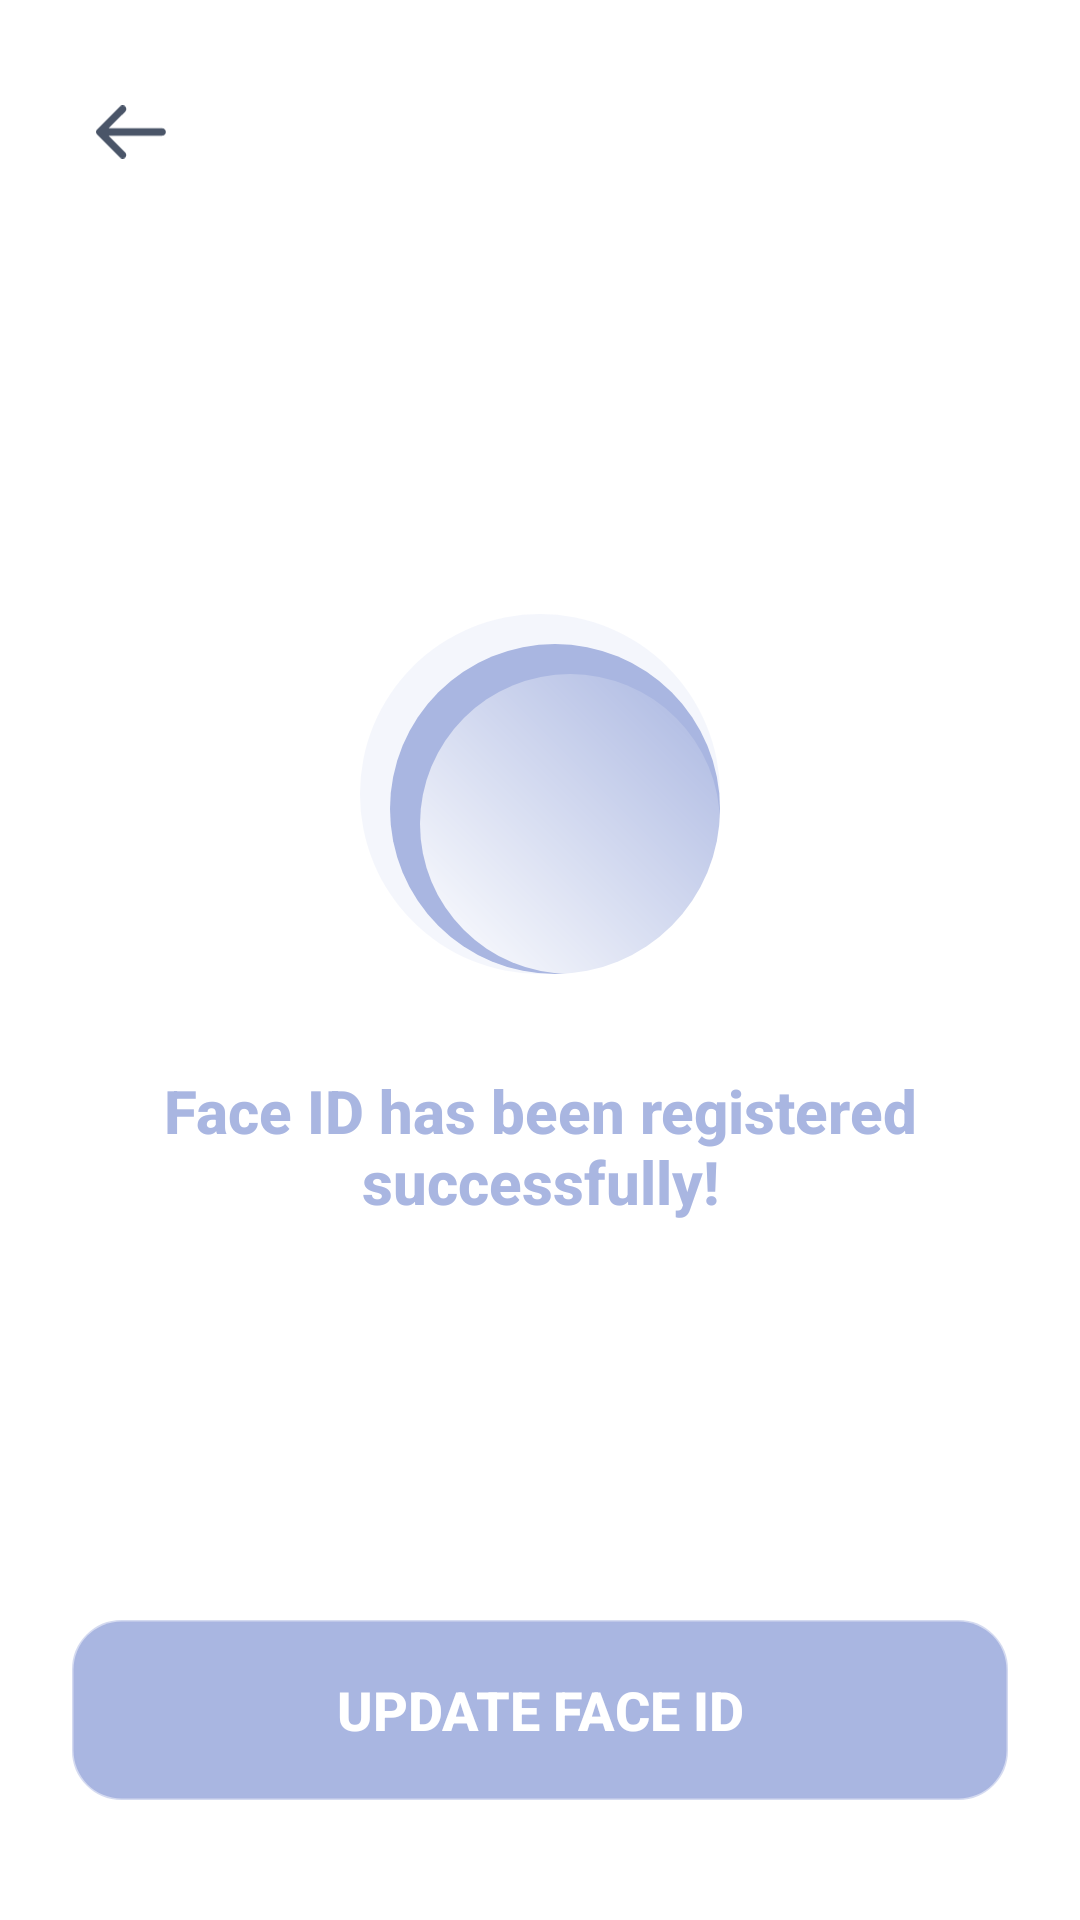

Icons on this 1080px×1920px Android screen, each with its box as (x1, y1, x2, y2):
arrow back: (96, 105, 166, 159)
